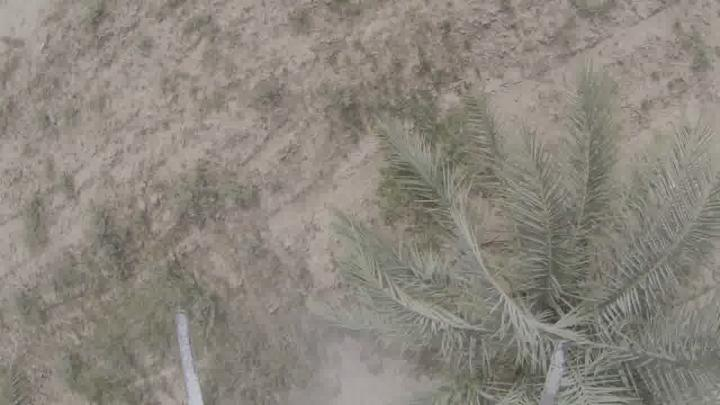Date-Palm-Crown: (415, 157, 701, 405)
